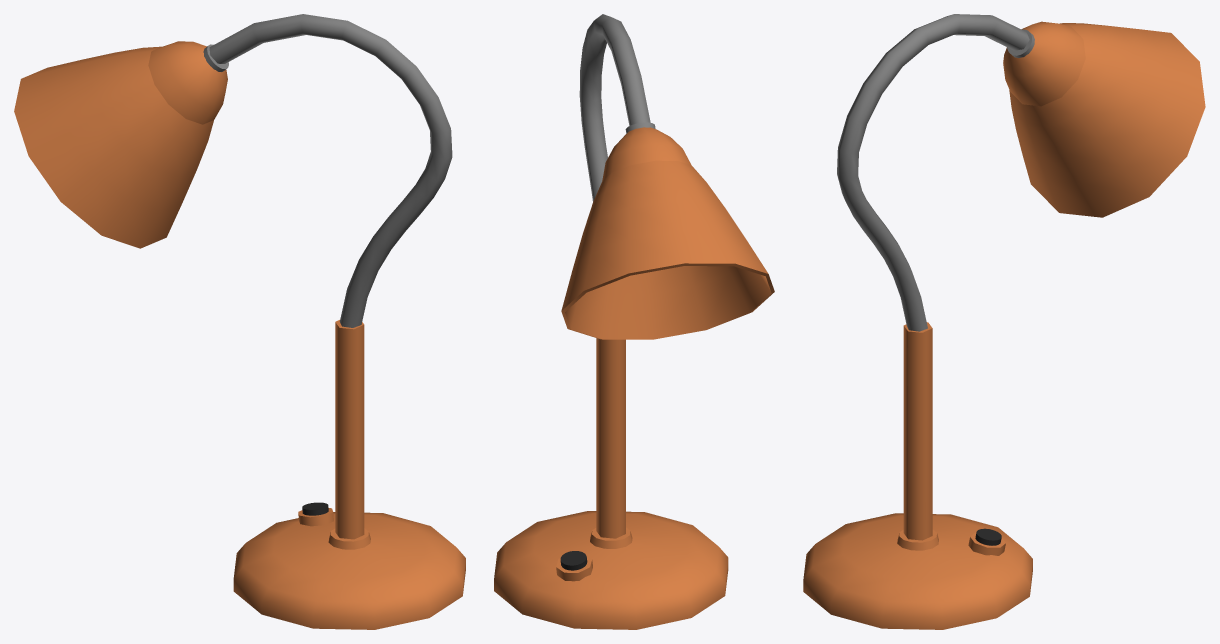
Rendered from Desk_Lamp_Straight_Bendy.fbx.
The picture shows the model from 3 angles, left to right: view 1: azimuth 30°, elevation 25°; view 2: azimuth 150°, elevation 25°; view 3: azimuth 270°, elevation 25°; orthographic projection. The views are drawn at different scales.
Visible parts, largest first — view 1: Desk_Lamp_Straight_Bendy_LOD0; view 2: Desk_Lamp_Straight_Bendy_LOD0; view 3: Desk_Lamp_Straight_Bendy_LOD0.
Part boxes in pixels (x1,y1,x2,y2): Desk_Lamp_Straight_Bendy_LOD0: (14, 14, 465, 629); Desk_Lamp_Straight_Bendy_LOD0: (494, 14, 774, 629); Desk_Lamp_Straight_Bendy_LOD0: (803, 14, 1205, 629).
Size of what is drawn, in the model's own units: 31.42 by 49.6 by 32.64.
